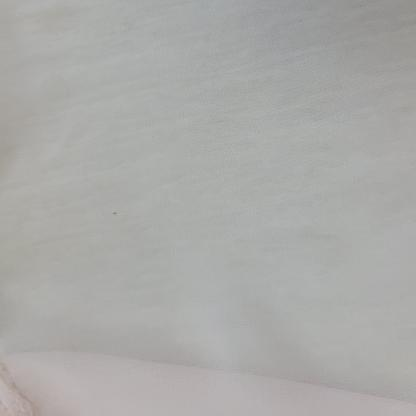spot: (108, 209, 125, 221)
